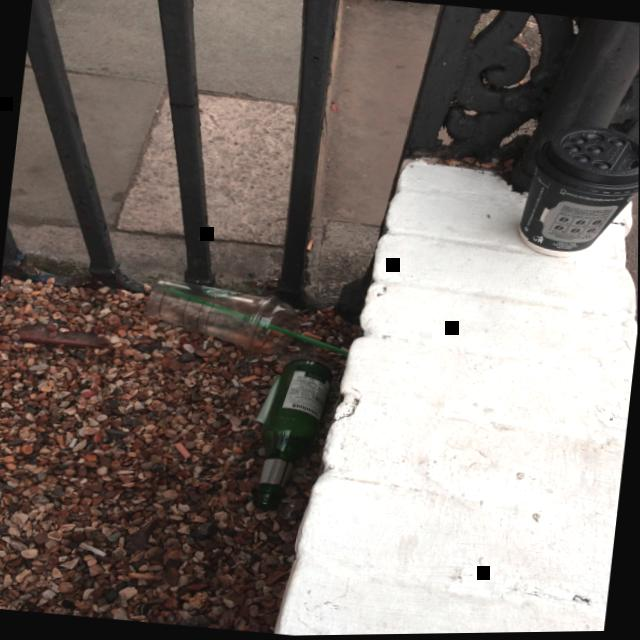Cigarette: (78, 542, 107, 556), (128, 572, 163, 582), (174, 443, 191, 459), (304, 332, 323, 341), (241, 376, 260, 383), (271, 330, 284, 339), (308, 239, 315, 250)
Disposable plastic cup: (147, 278, 278, 352)
Glass bottle: (253, 361, 333, 511)
Paper cup: (517, 166, 639, 259)
Plastic lid: (533, 127, 639, 198), (243, 295, 299, 354)
Plastic straw: (176, 294, 348, 356)
